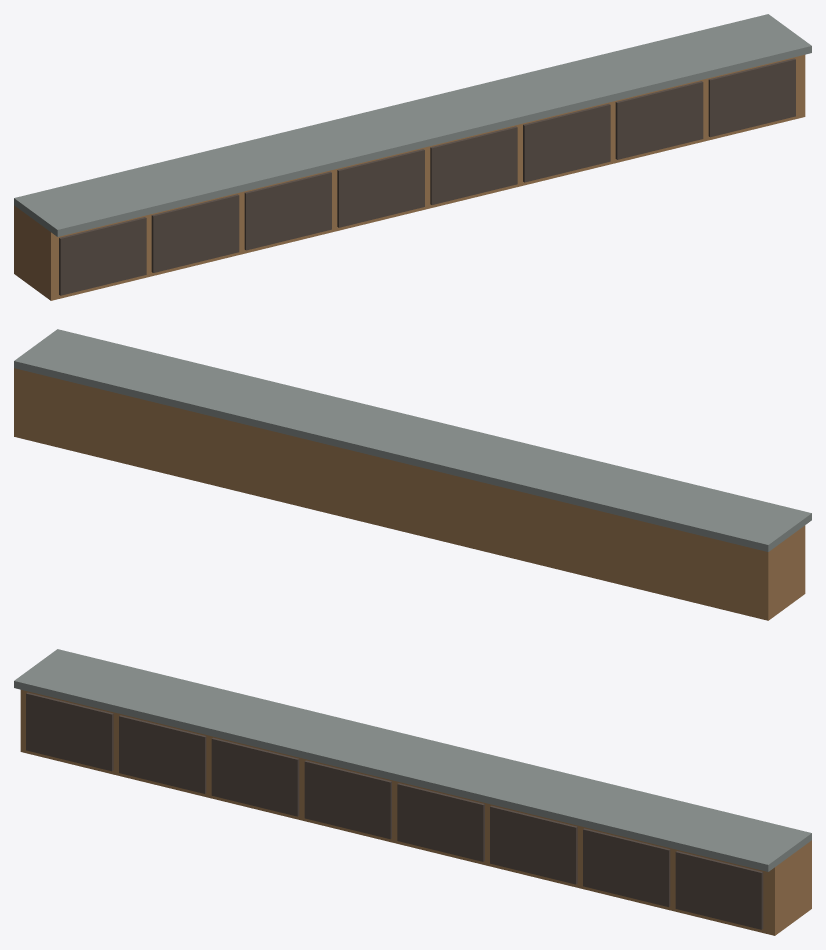
File: good.glb
The picture shows the model from 3 angles, top to bottom: view 1: azimuth 30°, elevation 25°; view 2: azimuth 150°, elevation 25°; view 3: azimuth 330°, elevation 25°; orthographic projection.
Visible parts, largest first — view 1: starbucksBackbar_1, starbucksBackbar_0, starbucksBackbar_3, starbucksBackbar_8, starbucksBackbar_5, starbucksBackbar_6, starbucksBackbar_7, starbucksBackbar_2, starbucksBackbar_4, starbucksBackbar_9; view 2: starbucksBackbar_0, starbucksBackbar_1; view 3: starbucksBackbar_1, starbucksBackbar_0, starbucksBackbar_9, starbucksBackbar_4, starbucksBackbar_7, starbucksBackbar_2, starbucksBackbar_3, starbucksBackbar_5, starbucksBackbar_6, starbucksBackbar_8.
Boxes of the visible parts, left/top/right/bottom form: starbucksBackbar_1: left=14, top=14, right=811, bottom=236; starbucksBackbar_0: left=14, top=54, right=805, bottom=300; starbucksBackbar_3: left=151, top=194, right=239, bottom=272; starbucksBackbar_8: left=615, top=81, right=703, bottom=159; starbucksBackbar_5: left=337, top=149, right=424, bottom=227; starbucksBackbar_6: left=430, top=126, right=517, bottom=204; starbucksBackbar_7: left=523, top=103, right=610, bottom=182; starbucksBackbar_2: left=59, top=217, right=146, bottom=295; starbucksBackbar_4: left=244, top=171, right=331, bottom=250; starbucksBackbar_9: left=708, top=58, right=795, bottom=137; starbucksBackbar_0: left=14, top=368, right=805, bottom=620; starbucksBackbar_1: left=14, top=329, right=811, bottom=551; starbucksBackbar_1: left=14, top=649, right=811, bottom=871; starbucksBackbar_0: left=20, top=689, right=811, bottom=935; starbucksBackbar_9: left=675, top=851, right=763, bottom=929; starbucksBackbar_4: left=211, top=737, right=299, bottom=816; starbucksBackbar_7: left=490, top=805, right=577, bottom=884; starbucksBackbar_2: left=26, top=692, right=113, bottom=771; starbucksBackbar_3: left=119, top=715, right=206, bottom=793; starbucksBackbar_5: left=304, top=760, right=391, bottom=839; starbucksBackbar_6: left=397, top=783, right=484, bottom=861; starbucksBackbar_8: left=583, top=828, right=670, bottom=907.
Bounding box in the file's own units: 10 × 0.96 × 1.
